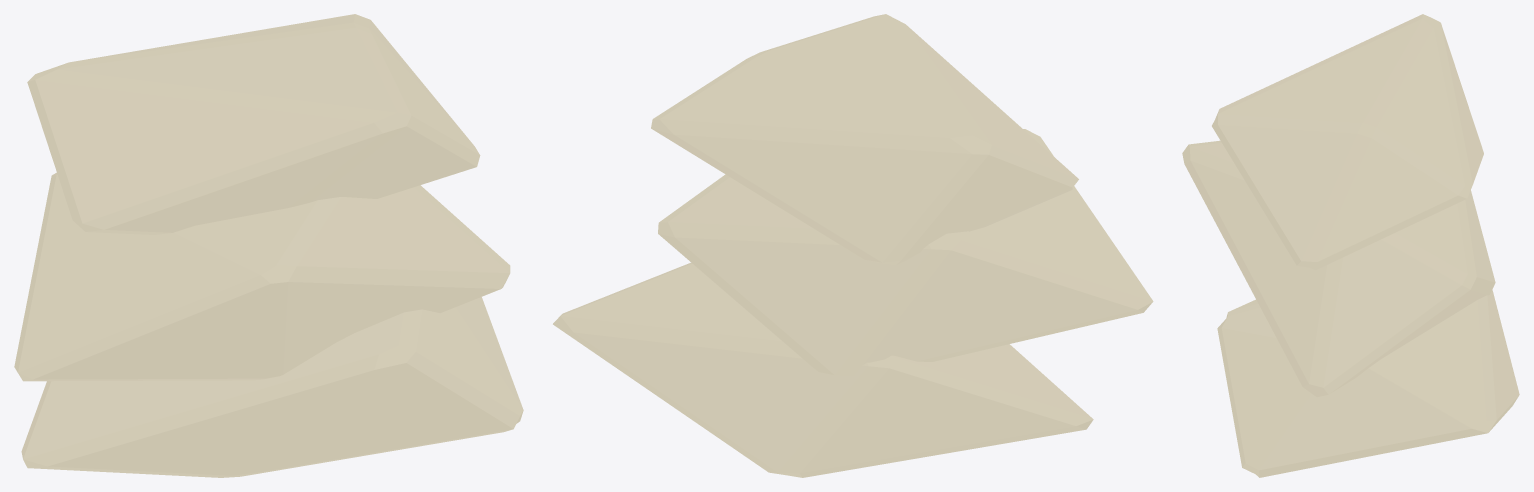
The model's file is Blender_LimestoneBoulder_2.glb.
The picture shows the model from 3 angles, left to right: view 1: azimuth 30°, elevation 25°; view 2: azimuth 150°, elevation 25°; view 3: azimuth 270°, elevation 25°; orthographic projection. The views are drawn at different scales.
Parts seen in each view (by area): view 1: Blender_LimestoneBoulder_2; view 2: Blender_LimestoneBoulder_2; view 3: Blender_LimestoneBoulder_2.
Part boxes in pixels (left/top/right/bottom): Blender_LimestoneBoulder_2: left=14, top=14, right=523, bottom=477; Blender_LimestoneBoulder_2: left=553, top=14, right=1153, bottom=477; Blender_LimestoneBoulder_2: left=1182, top=14, right=1519, bottom=477.
Size of the model in its own units: 1.59 by 1.08 by 1.01.
